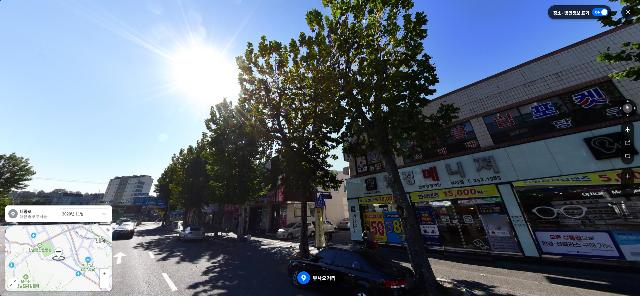other: (312, 1, 460, 292), (238, 28, 342, 259), (196, 97, 269, 241)
